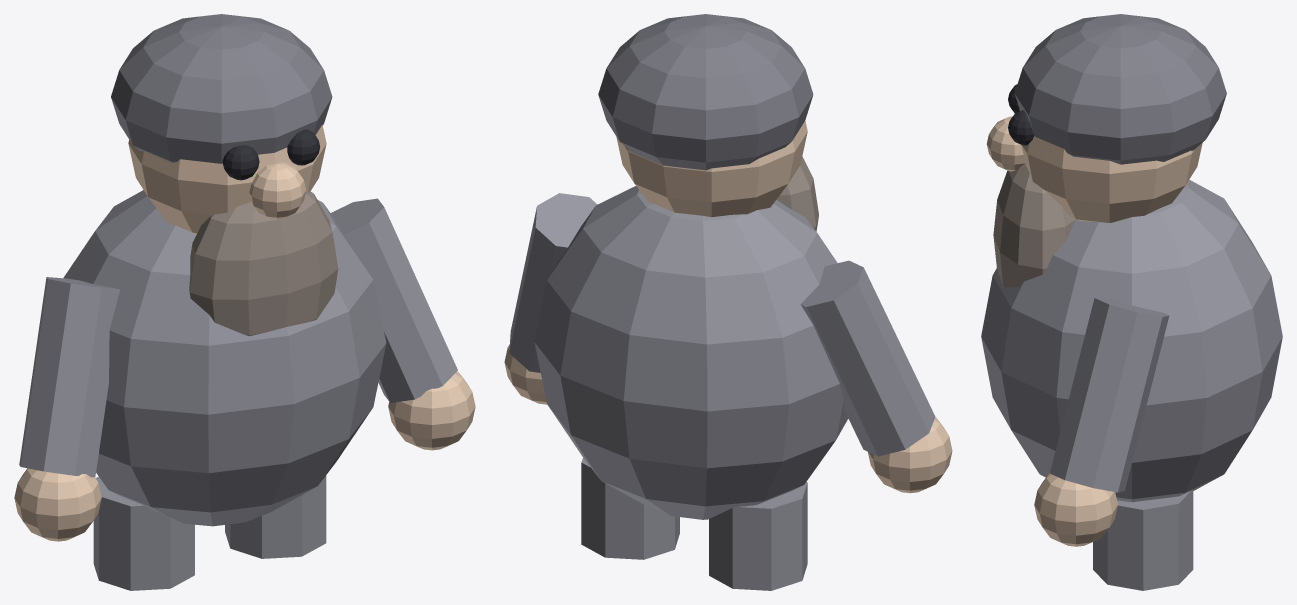
The model's file is creature_dwarf_iron.glb.
3 views of the same model, side by side, from view 1: azimuth 30°, elevation 25°; view 2: azimuth 150°, elevation 25°; view 3: azimuth 270°, elevation 25° (orthographic). The views are drawn at different scales.
Parts seen in each view (by area): view 1: creature_dwarf_iron; view 2: creature_dwarf_iron; view 3: creature_dwarf_iron.
Part boxes in pixels (x1,y1,x2,y2): creature_dwarf_iron: (14,14,475,590); creature_dwarf_iron: (504,14,952,590); creature_dwarf_iron: (981,14,1282,590).
Bounding box in the file's own units: 0.8786 × 1 × 0.5331.
